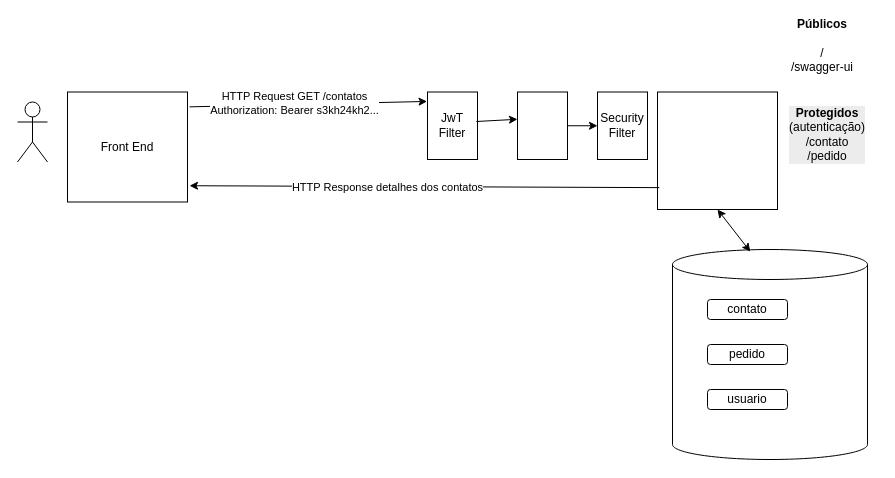
The diagram is 895 pixels wide and 478 high, and some of its shapes have lost their labels. Each missing label, with the centre of its shape:
"Actor" goes at (x=32, y=131).
"Auth Filter" goes at (x=542, y=125).
"Backend Spring Boot" goes at (x=717, y=150).
